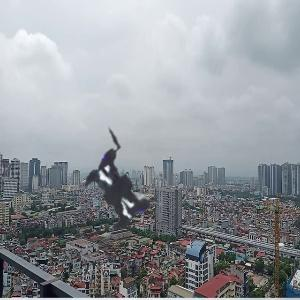drone: (30, 93, 218, 281)
